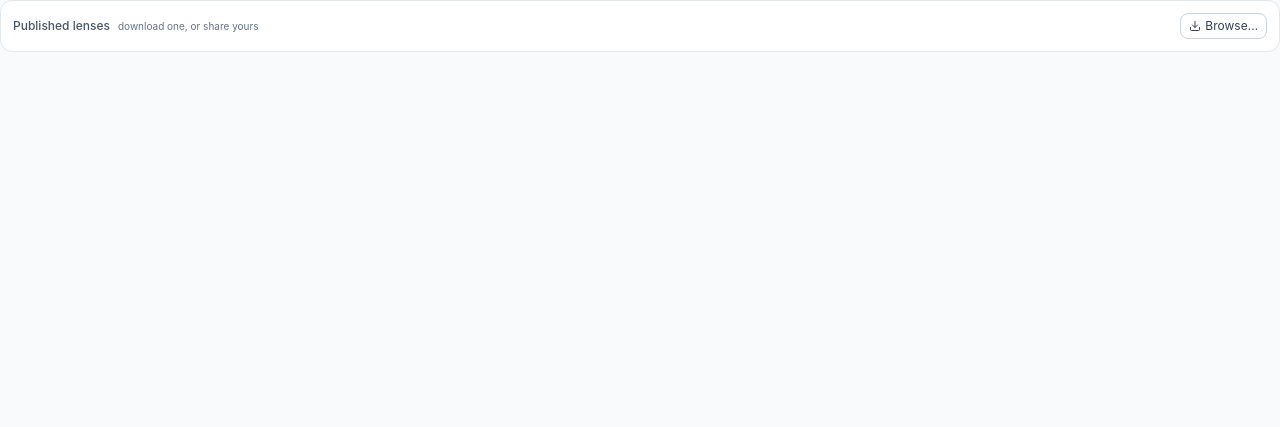
acquiring › warns BEFORE the fetch when the weights are missing
The width and height of the screenshot is (1280, 427).
Click the button "Browse…" at (1224, 26), box [1180,13,1267,39]
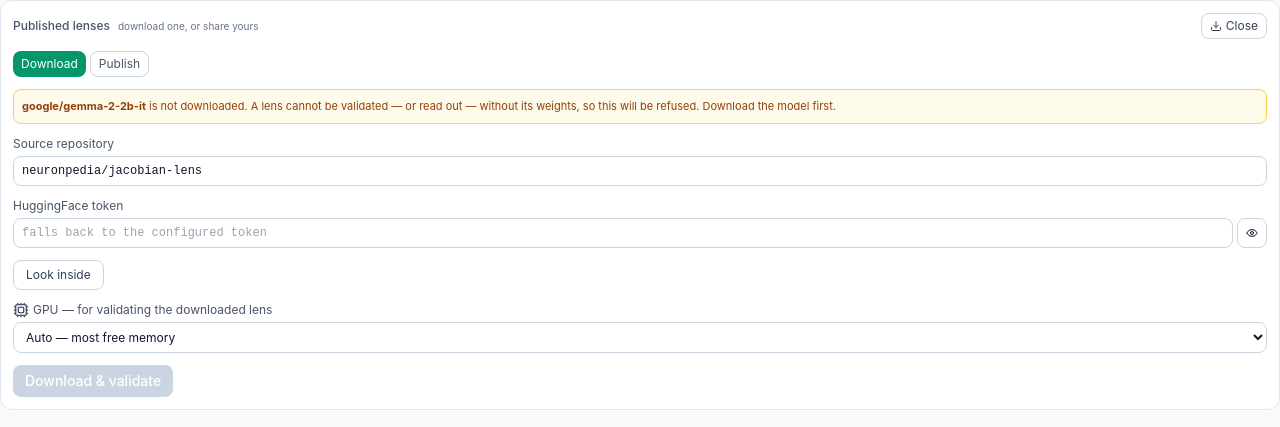
Expected: the element with test id "jlens-acquire-weights-missing" shows "not downloaded", [146,99,836,113]
Expected: the element with test id "jlens-acquire-weights-missing" shows "google/gemma-2-2b-it", [22,99,146,113]
